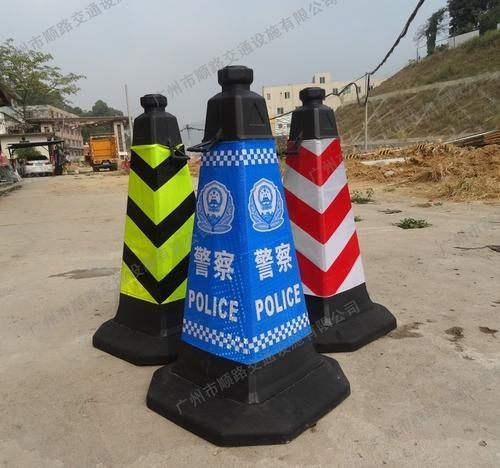cone_barrel: (155, 72, 336, 428), (282, 93, 395, 342), (91, 94, 195, 354)
